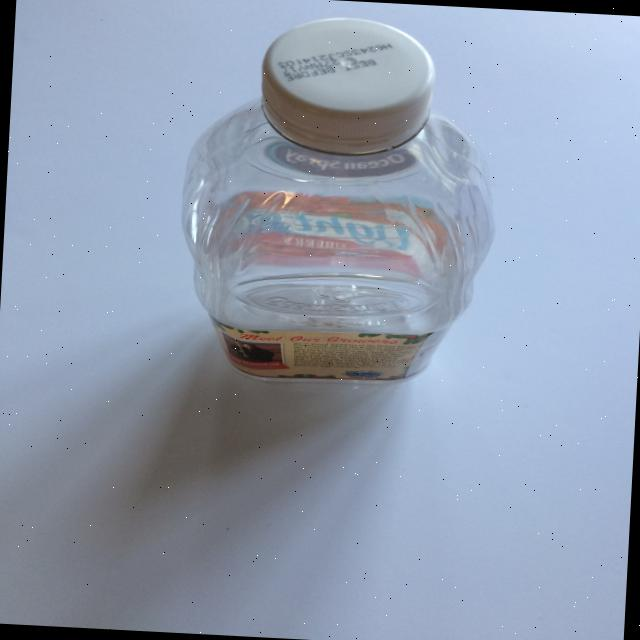plastic: (171, 9, 507, 394)
